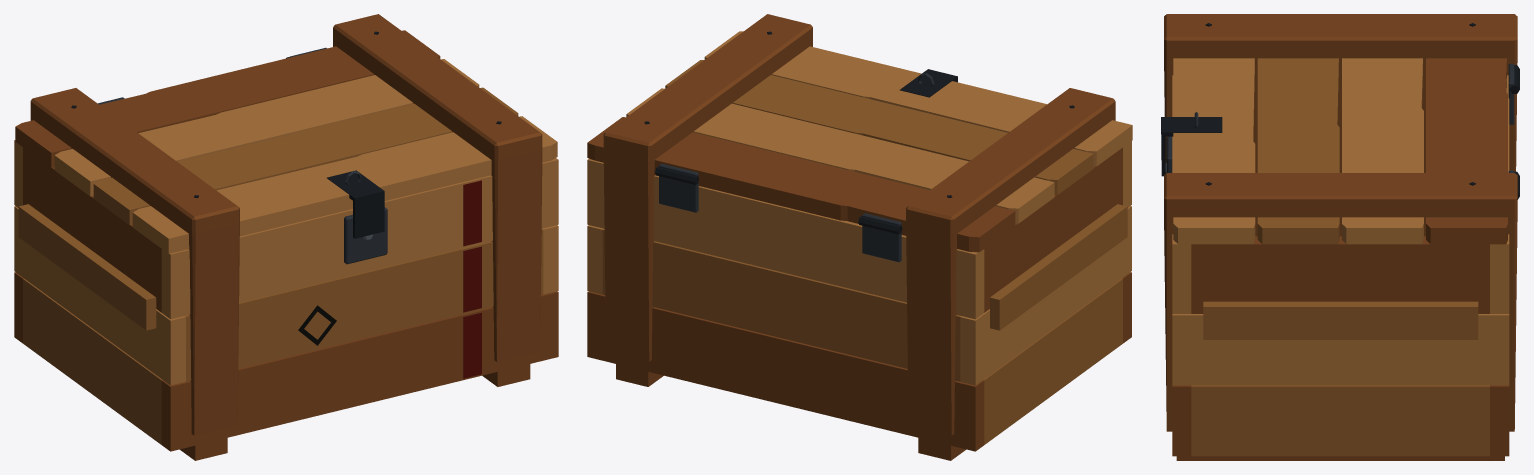
Rendered from Supply Mining Crate.obj.
3 views of the same model, side by side, from view 1: azimuth 30°, elevation 25°; view 2: azimuth 150°, elevation 25°; view 3: azimuth 270°, elevation 25° (orthographic). The views are drawn at different scales.
Visible parts, largest first — view 1: Supply_Mining_Crate.Static, Supply_Mining_Crate.Lid, Supply_Mining_Crate.Latch; view 2: Supply_Mining_Crate.Static, Supply_Mining_Crate.Lid, Supply_Mining_Crate.Latch; view 3: Supply_Mining_Crate.Static, Supply_Mining_Crate.Lid, Supply_Mining_Crate.Latch.
Part boxes in pixels (x1,y1,x2,y2): Supply_Mining_Crate.Static: (14,57,558,460); Supply_Mining_Crate.Lid: (15,14,557,253); Supply_Mining_Crate.Latch: (327,170,384,238); Supply_Mining_Crate.Static: (587,141,1131,460); Supply_Mining_Crate.Lid: (587,14,1132,252); Supply_Mining_Crate.Latch: (900,69,957,97); Supply_Mining_Crate.Static: (1164,65,1519,460); Supply_Mining_Crate.Lid: (1164,14,1517,244); Supply_Mining_Crate.Latch: (1161,117,1222,176).
Size of the model in its own units: 0.904 by 0.529 by 0.639.
